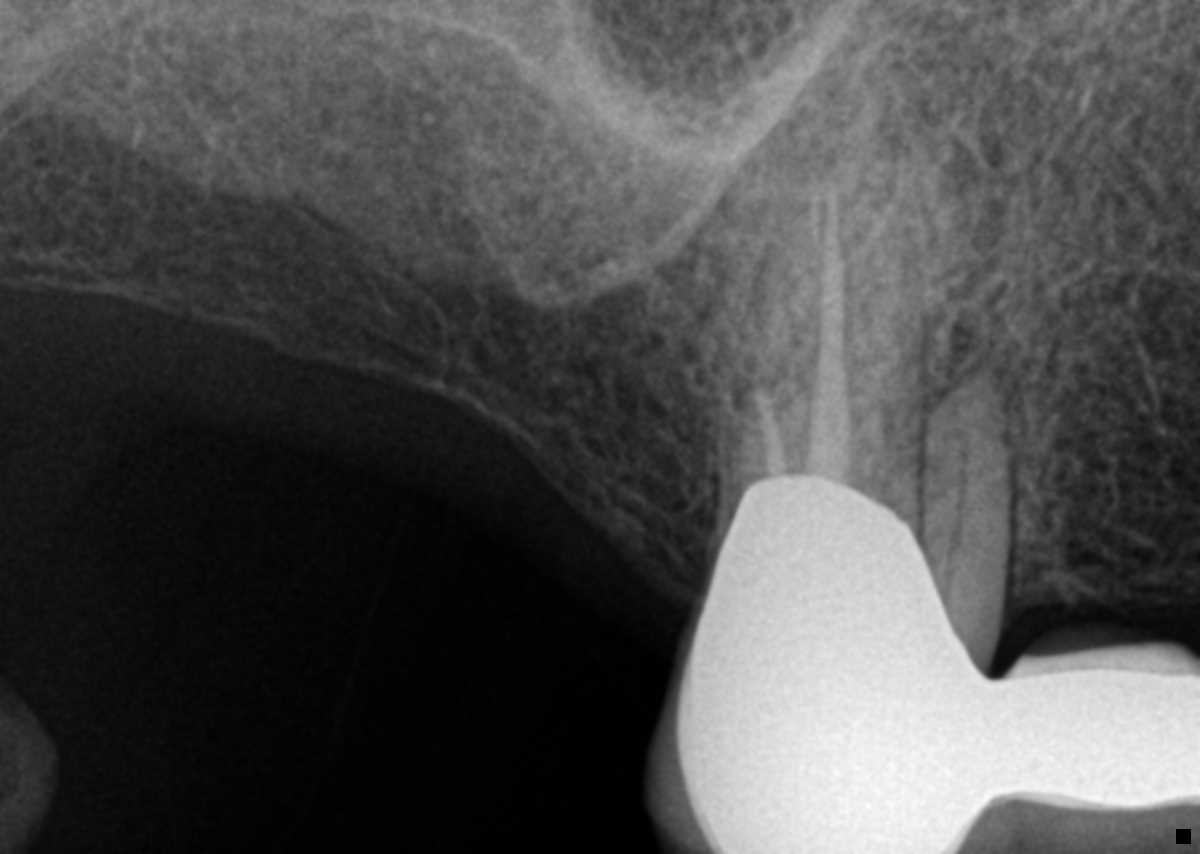Apical Lesion: (946, 300, 1029, 447)
Distal Root: (719, 376, 821, 524)
Mesial Canal: (941, 427, 966, 591)
Mesial Root: (886, 368, 1011, 634)
Palatal Root: (731, 133, 925, 550)
Root Canal Filling: (806, 182, 853, 487), (752, 387, 786, 487)
